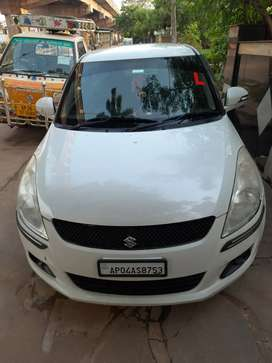AP04AS8753: (100, 261, 165, 275)
